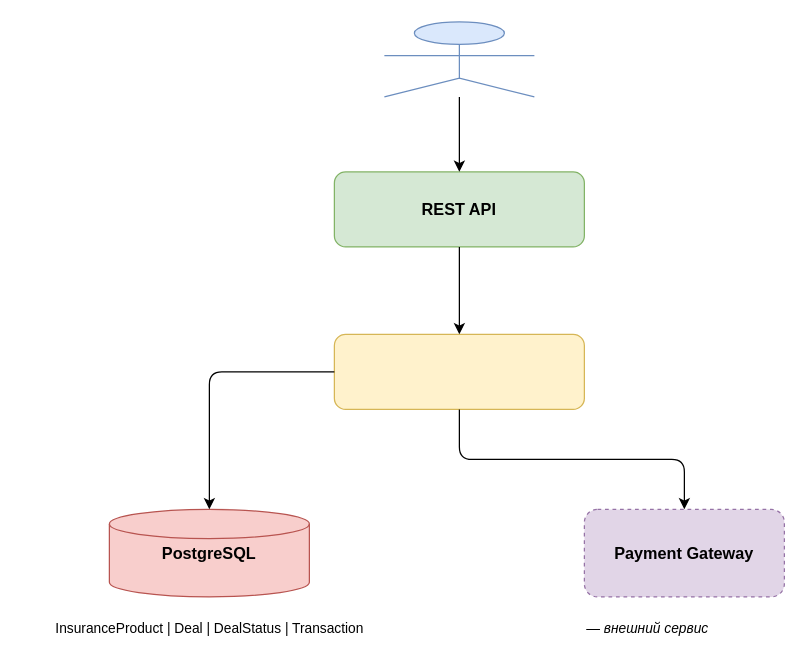
Some shapes in this 806 by 669 pixel diagram are drawn without their labels. The shapes that lost their labels are listed below. From the top down, each one's box as (x1, y1, x2, y2) in pixels, then its label:
(383, 21, 534, 97): Клиент (покупатель)
(333, 333, 584, 409): Business Logic
